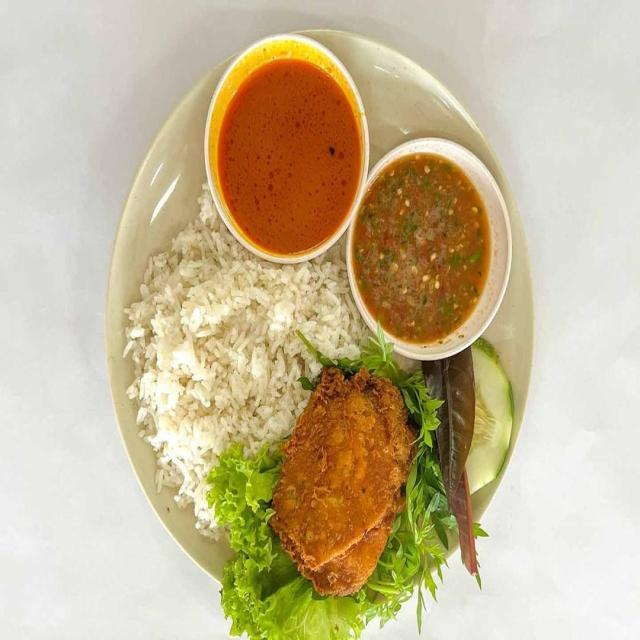Chicken: (272, 366, 423, 597)
Plate: (106, 61, 228, 580)
Rice: (129, 192, 374, 535)
Vegetables: (209, 334, 515, 639)
